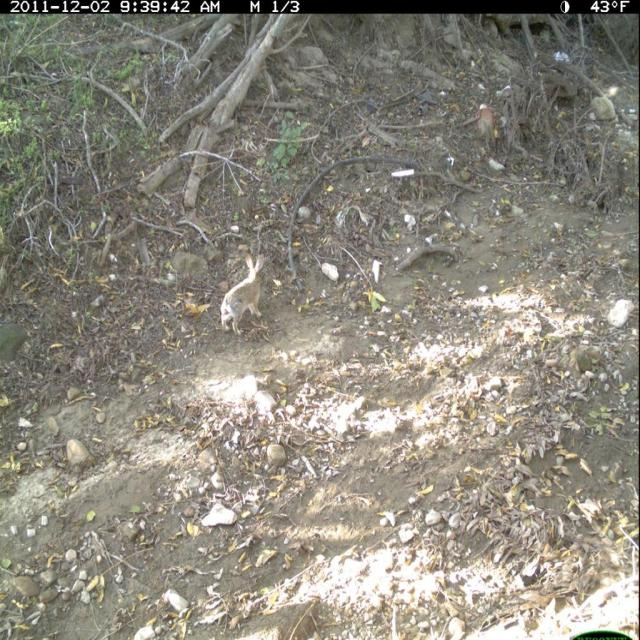rabbit: (218, 248, 271, 340)
